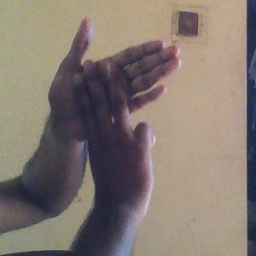M: (43, 16, 183, 180)
